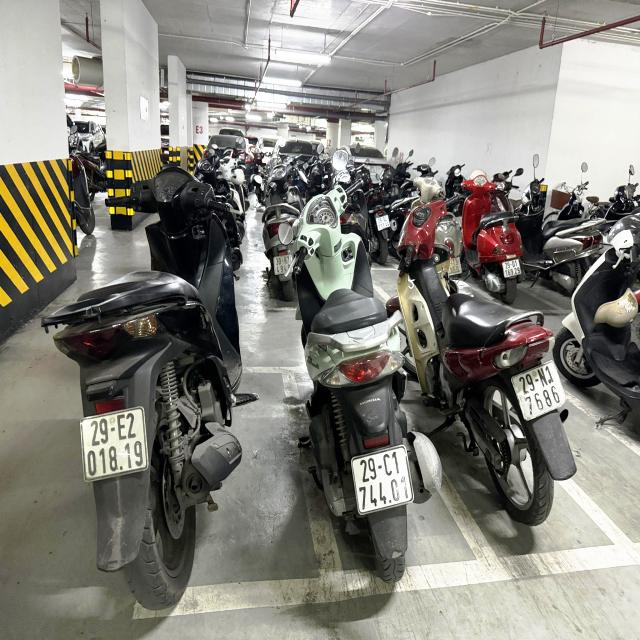license_plate: (83, 407, 151, 478), (353, 443, 415, 509), (512, 362, 570, 419)
